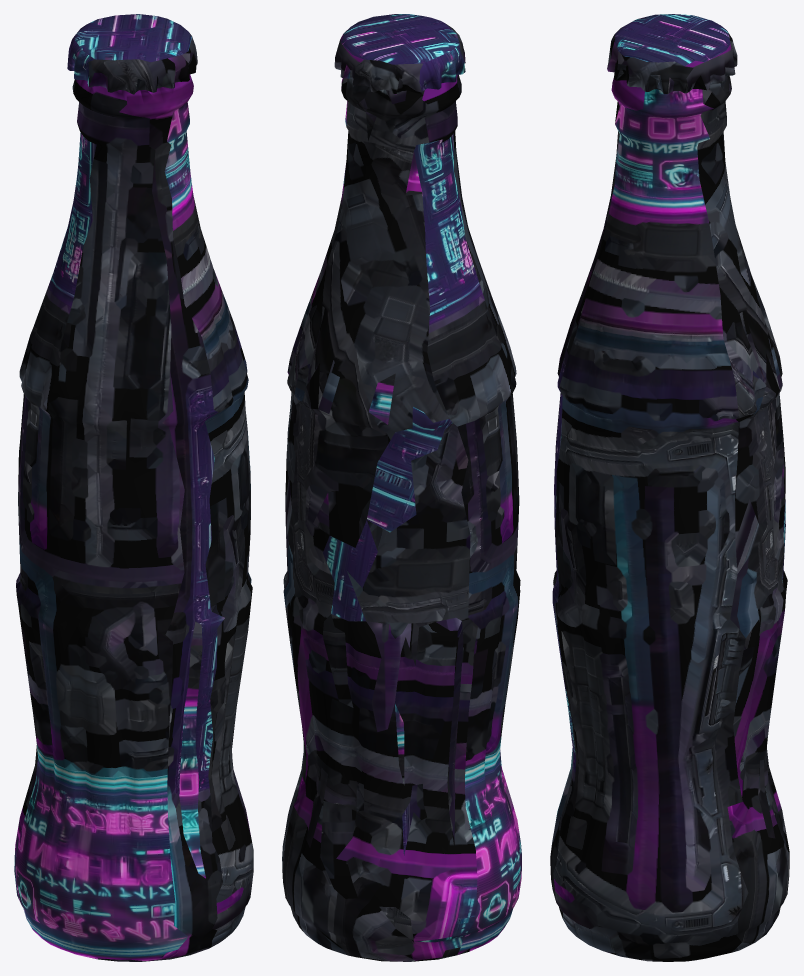
The model's file is sm_kele.fbx.
The picture shows the model from 3 angles, left to right: view 1: azimuth 30°, elevation 25°; view 2: azimuth 150°, elevation 25°; view 3: azimuth 270°, elevation 25°; orthographic projection.
Parts seen in each view (by area): view 1: mesh_node; view 2: mesh_node; view 3: mesh_node.
Part boxes in pixels (left/top/right/bottom): mesh_node: left=14, top=14, right=253, bottom=961; mesh_node: left=282, top=14, right=521, bottom=961; mesh_node: left=550, top=14, right=789, bottom=961.
Size of the model in its own units: 0.4865 by 1.98 by 0.4857.
